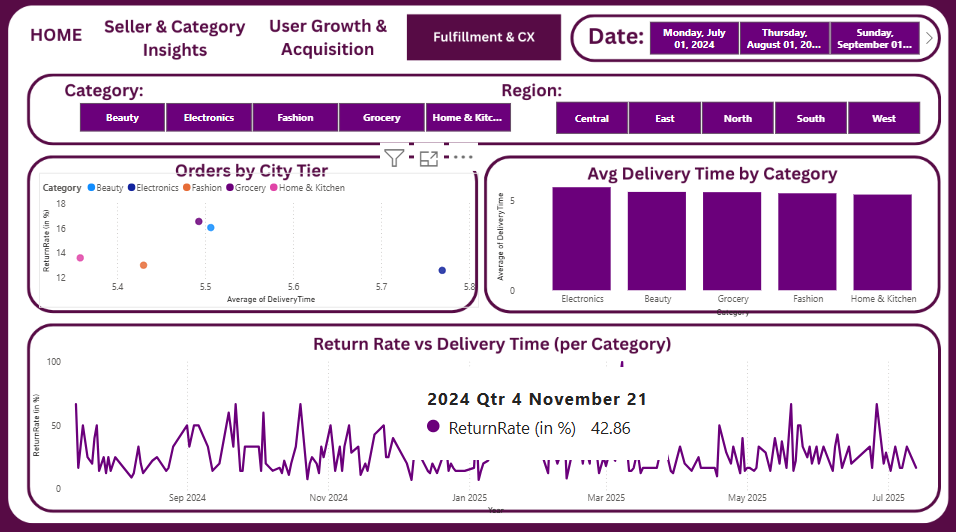

What the dashboard file says about the page in this screenshot:
{"tool":"powerbi","page":{"name":"Fulfillment & CX","canvas":[1280,720],"ordinal":3},"visuals":[{"type":"columnChart","fields":{"Y":["Avg(logistics.DeliveryTime)"],"Category":["orders.Category"]},"box":[658.3,231.7,606.7,196.7],"z":0},{"type":"lineChart","fields":{"Y":["blank.ReturnRate (in %)"],"Category":["DateTable.Date.Variation.Date Hierarchy.Year","DateTable.Date.Variation.Date Hierarchy.Quarter","DateTable.Date.Variation.Date Hierarchy.Month","DateTable.Date.Variation.Date Hierarchy.Day"]},"box":[40,470,1210,223.3],"z":2000},{"type":"scatterChart","fields":{"X":["Avg(logistics.DeliveryTime)"],"Y":["blank.ReturnRate (in %)"],"Series":["sellers.Category"]},"box":[53.3,231.7,586.7,180],"z":2001},{"type":"slicer","fields":{"Values":["orders.Category"]},"box":[81.3,131.7,625,51.7],"z":2002},{"type":"slicer","fields":{"Values":["sellers.Region"]},"box":[716.3,130,535,56.7],"z":2003},{"type":"slicer","fields":{"Values":["DateTable.Month"]},"box":[841.3,23.3,410,55],"z":2004},{"type":"actionButton","box":[137.5,18.3,202.5,65.8],"z":2005},{"type":"actionButton","box":[30.7,23,100,48],"z":2006},{"type":"actionButton","box":[346.7,18.3,183.3,66.7],"z":2007}]}

Visuals, with their boxes in screenshot pixels (x1, y1, x2, y2), scaled from the page's 1280x720 canvas onto the 956x532 screenshot:
columnChart - Avg(logistics.DeliveryTime) x orders.Category: detection(492, 171, 945, 317)
lineChart - blank.ReturnRate (in %) x DateTable.Date.Variation.Date Hierarchy.Year: detection(30, 347, 934, 512)
scatterChart - Avg(logistics.DeliveryTime) x blank.ReturnRate (in %): detection(40, 171, 478, 304)
slicer - orders.Category: detection(61, 97, 528, 136)
slicer - sellers.Region: detection(535, 96, 935, 138)
slicer - DateTable.Month: detection(628, 17, 935, 58)
actionButton: detection(103, 14, 254, 62)
actionButton: detection(23, 17, 98, 52)
actionButton: detection(259, 14, 396, 63)
